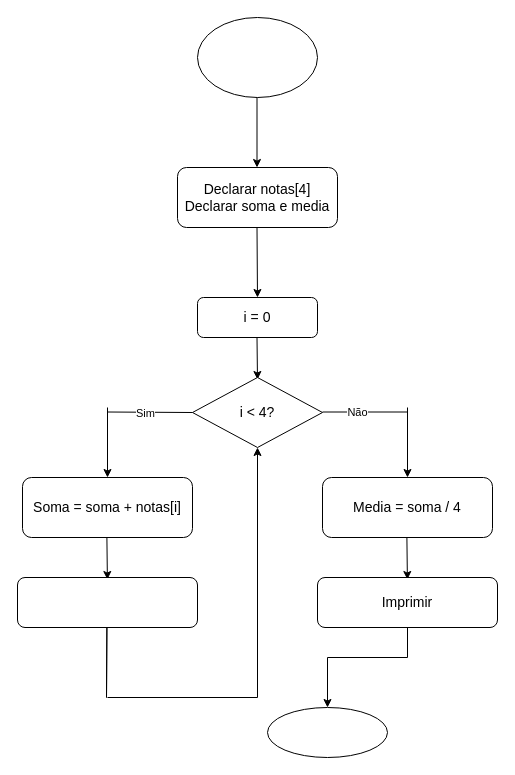
Image size: 515x775. Some labels were removed from this diagram. Here are the shapes that lost their labels. From the top down, the box of each, then its label:
(196, 16, 318, 98): Inicio
(16, 576, 198, 628): i = i + 1
(266, 706, 388, 758): Fim
